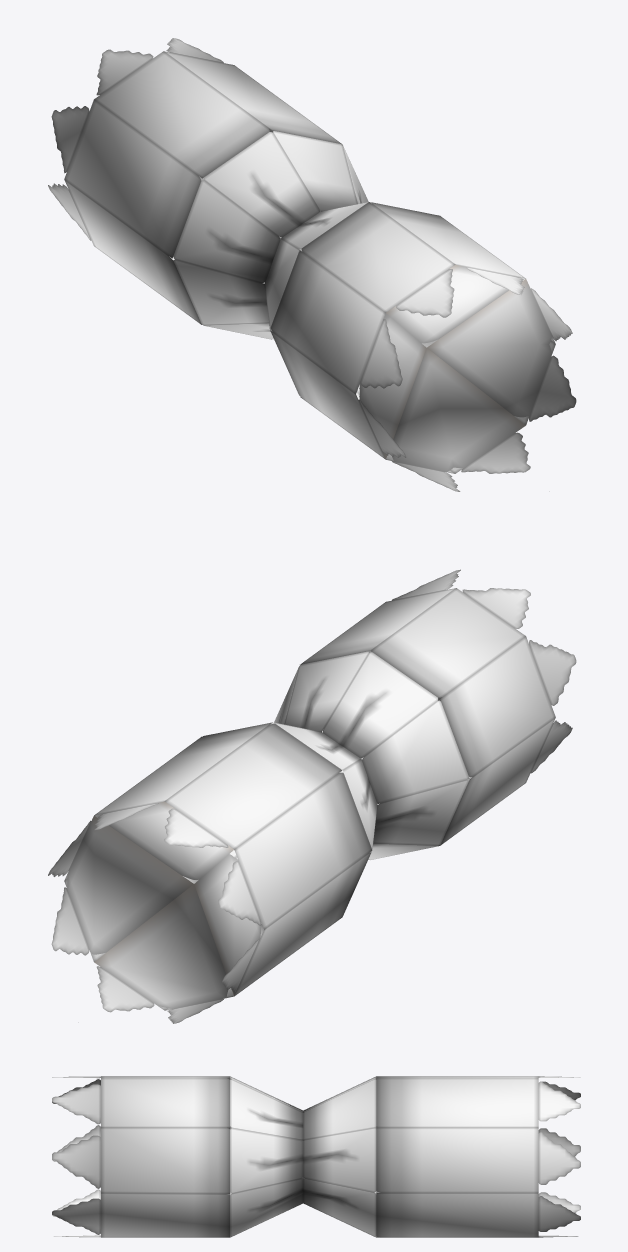
3 renders of one model, top to bottom at view 1: azimuth 30°, elevation 25°; view 2: azimuth 150°, elevation 25°; view 3: azimuth 270°, elevation 25°, orthographic. The views are drawn at different scales.
Parts seen in each view (by area): view 1: T1L1M006_11; view 2: T1L1M006_11; view 3: T1L1M006_11.
Part boxes in pixels (bbox=[...]): T1L1M006_11: bbox=[48, 38, 576, 491]; T1L1M006_11: bbox=[48, 569, 576, 1023]; T1L1M006_11: bbox=[52, 1076, 580, 1237].
Bounding box in the file's own units: 0.1572 × 0.1572 × 0.5449.
